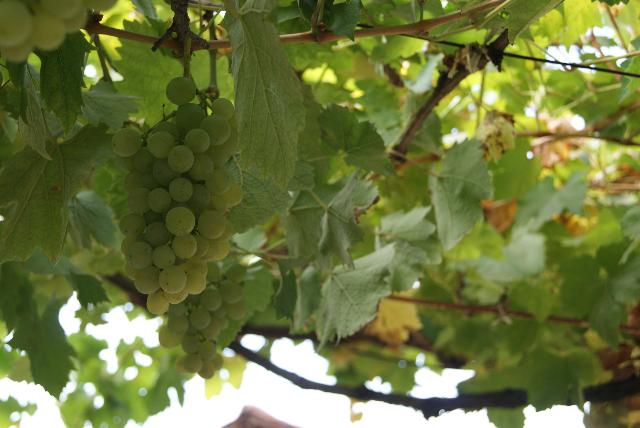grapes: (111, 76, 244, 315), (159, 261, 246, 379)
